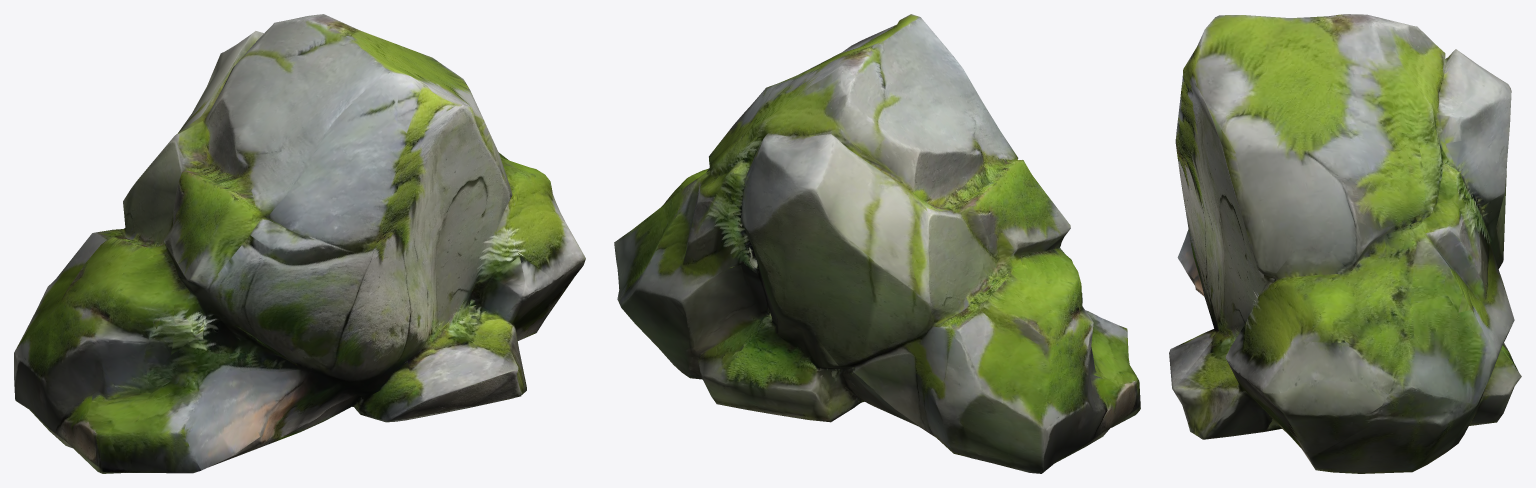
Rendered from rock_mossy_27.glb.
The picture shows the model from 3 angles, left to right: view 1: azimuth 30°, elevation 25°; view 2: azimuth 150°, elevation 25°; view 3: azimuth 270°, elevation 25°; orthographic projection. The views are drawn at different scales.
Parts seen in each view (by area): view 1: mossy_green_rock27_LOW_RES; view 2: mossy_green_rock27_LOW_RES; view 3: mossy_green_rock27_LOW_RES.
Boxes of the visible parts, bbox=[...] form: mossy_green_rock27_LOW_RES: bbox=[14, 14, 585, 473]; mossy_green_rock27_LOW_RES: bbox=[614, 14, 1140, 473]; mossy_green_rock27_LOW_RES: bbox=[1169, 14, 1521, 473].
Size of the model in its own units: 0.9999 by 0.6676 by 0.5794.
1 material, 1 textured.
